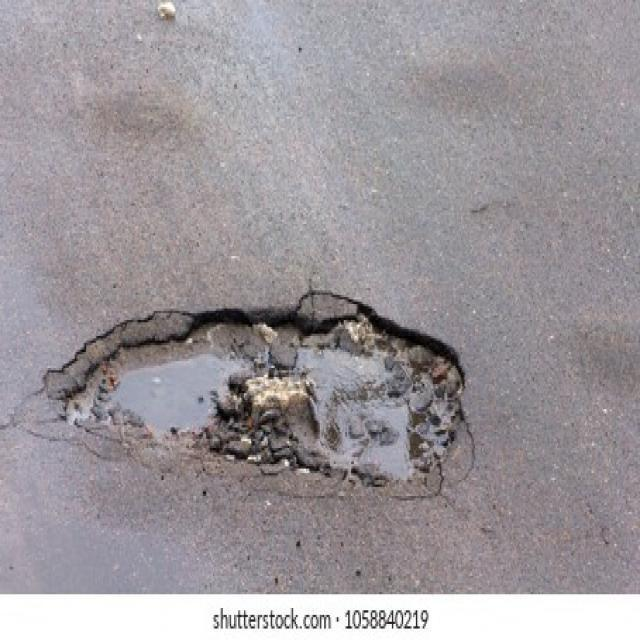Buraco: (37, 288, 482, 506)
